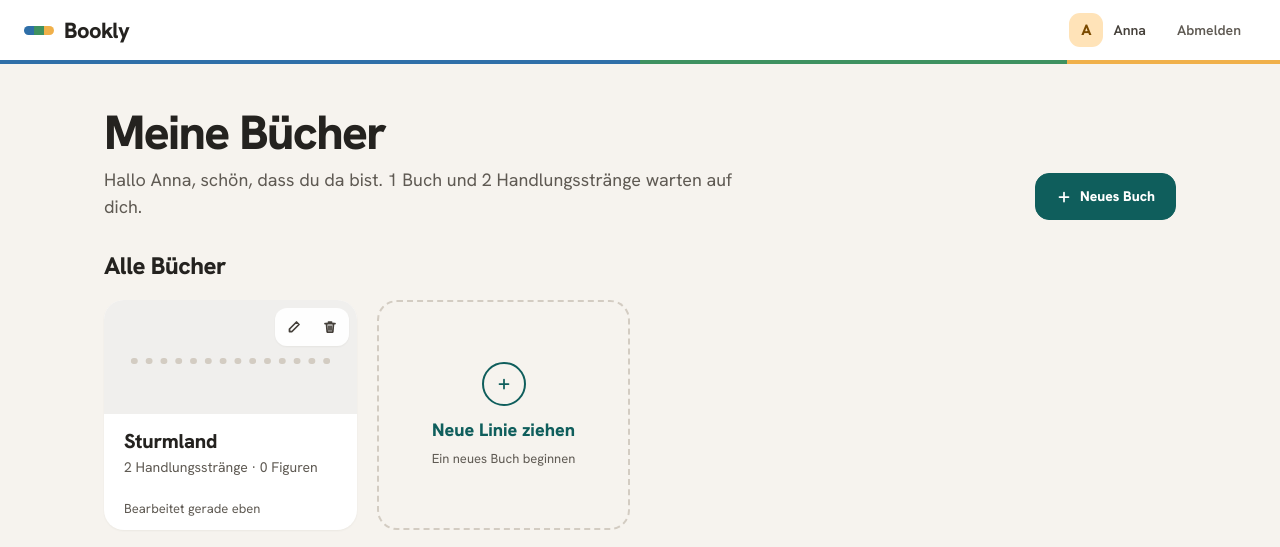
Scenario: BookListPage › deletes a book after confirmation
Step 1. Click the button named "Buch „Sturmland“ löschen" → (330, 327), box x1=313 y1=310 x2=347 y2=344
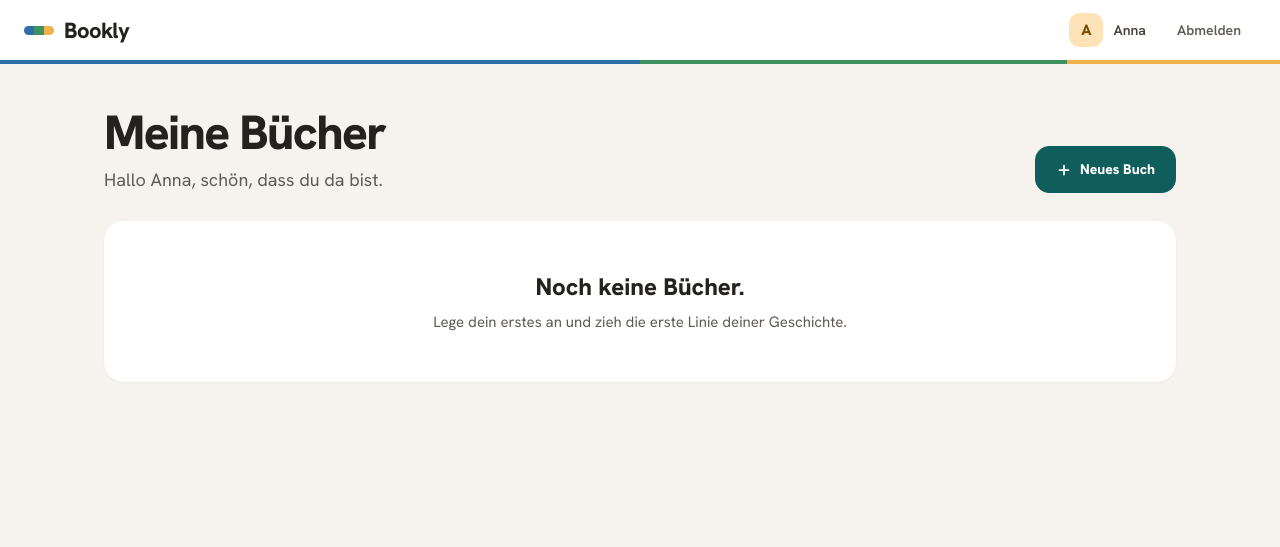
Expected: the link "Sturmland" is gone
